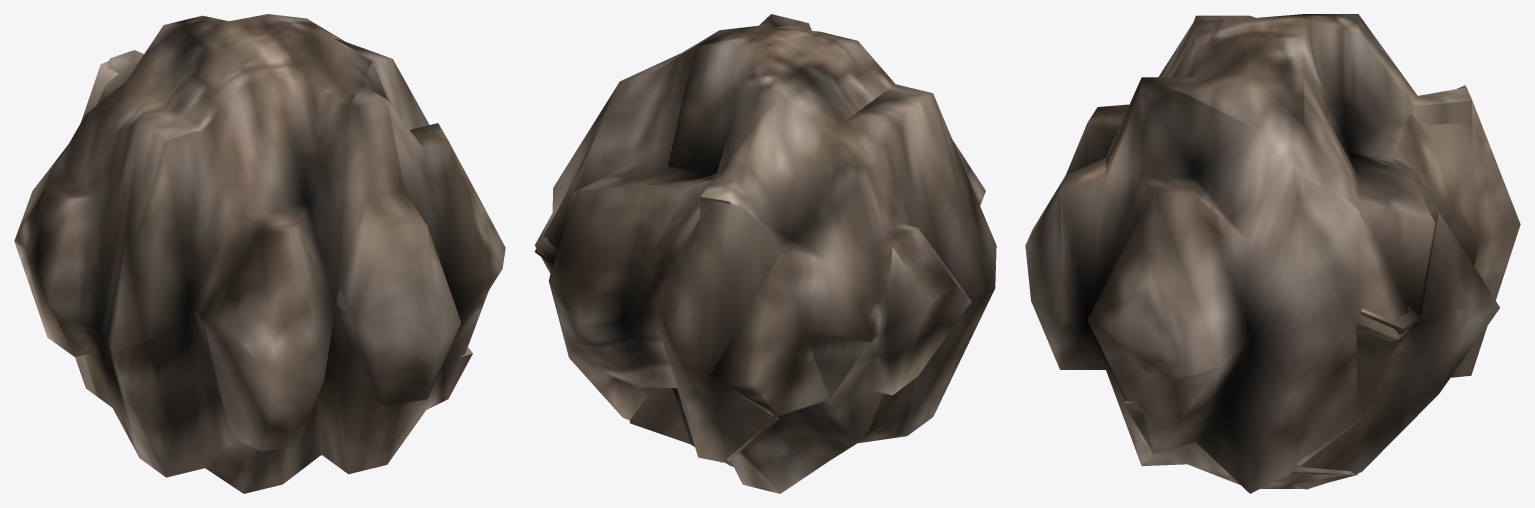
Rendered from BOULDER_01_DESTRUCT.fbx.
3 views of the same model, side by side, from view 1: azimuth 30°, elevation 25°; view 2: azimuth 150°, elevation 25°; view 3: azimuth 270°, elevation 25° (orthographic). The views are drawn at different scales.
Parts seen in each view (by area): view 1: BOULDER_01_DESTRUCT; view 2: BOULDER_01_DESTRUCT; view 3: BOULDER_01_DESTRUCT.
Boxes of the visible parts, <box> form: BOULDER_01_DESTRUCT: <box>14,14,505,493</box>; BOULDER_01_DESTRUCT: <box>534,14,996,493</box>; BOULDER_01_DESTRUCT: <box>1025,14,1520,493</box>.
Size of the model in its own units: 15304 by 15490 by 15548.
1 material, 1 textured.
